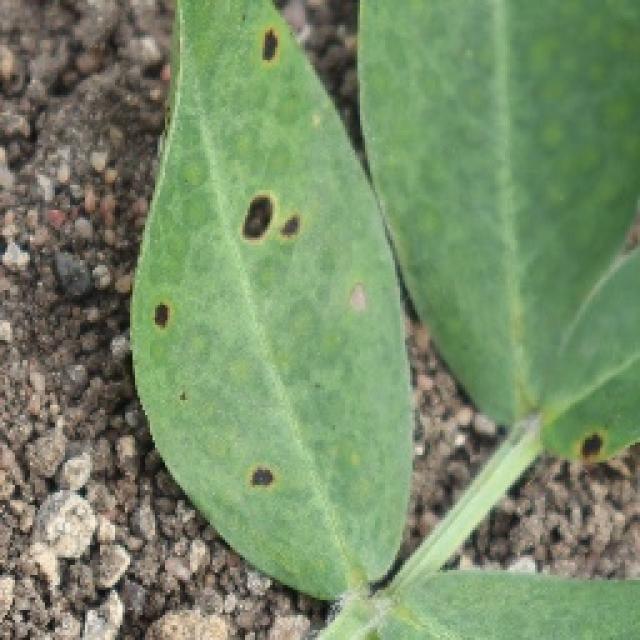Yellowish: (212, 166, 334, 266), (76, 290, 220, 354), (218, 1, 301, 87), (566, 419, 632, 480), (240, 455, 296, 514)
